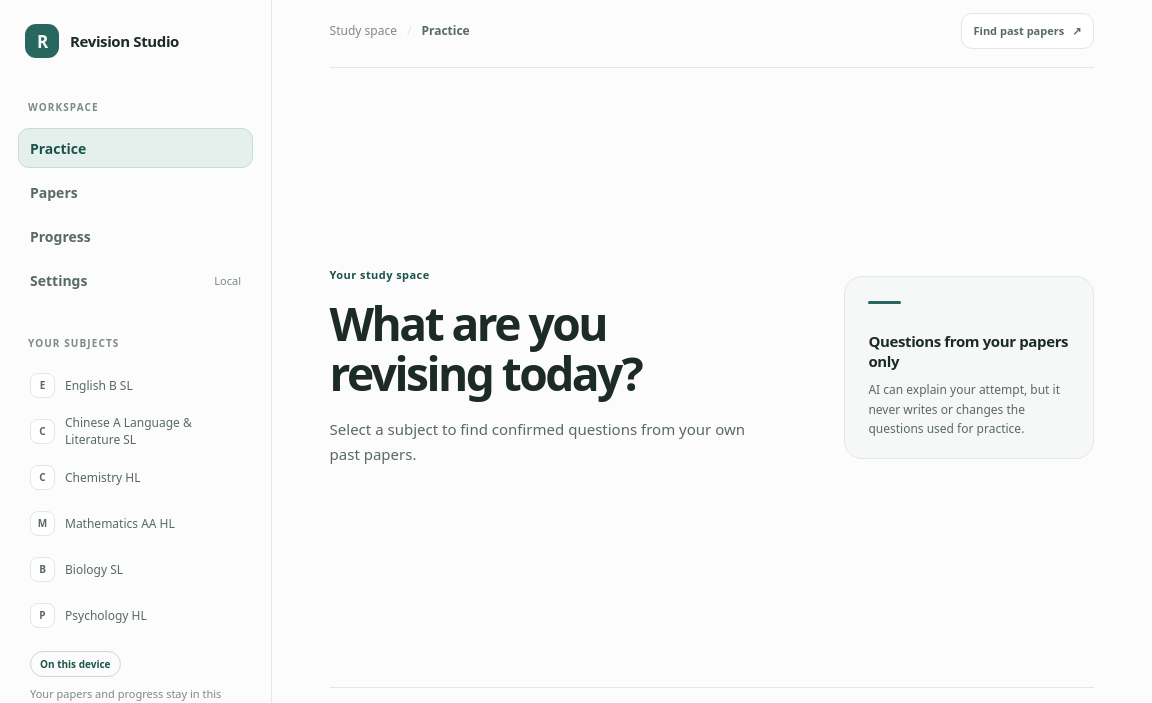
Test case: paper-only practice workflow › sends the confirmed source and markscheme to local feedback and saves only a self-rating
Click the button "B Biology SL" at x=136, y=569, box [18,548,253,590]
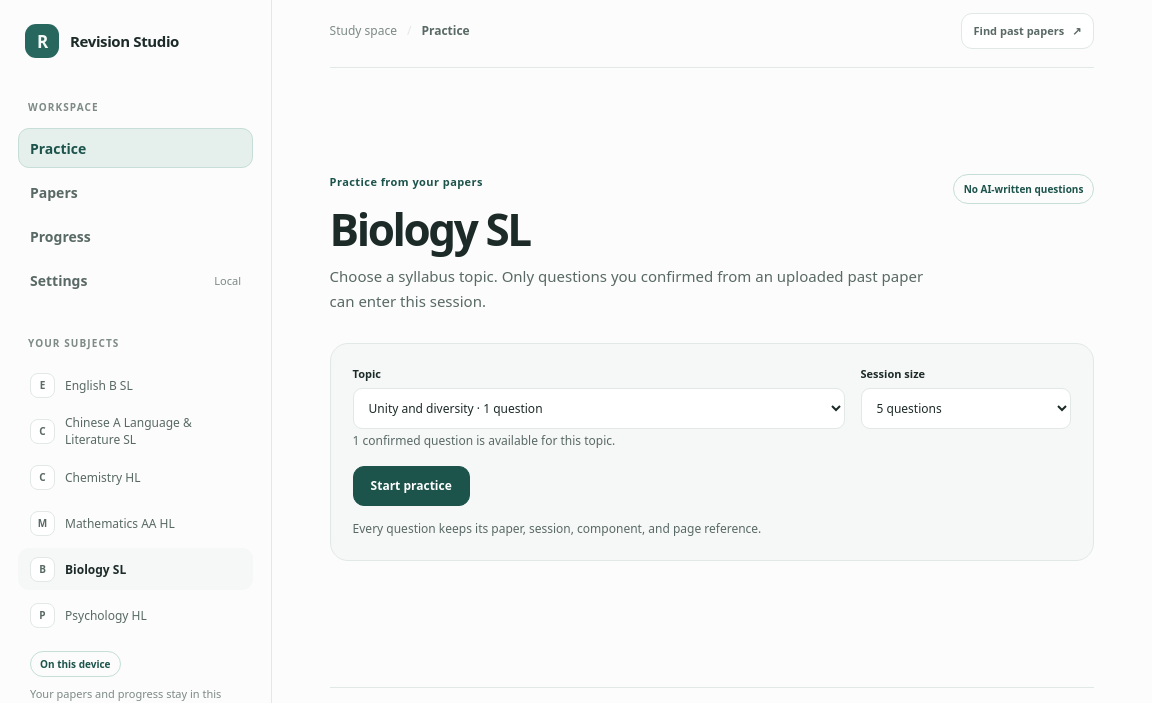
Check: the heading "Biology SL" is shown, box [330,199,530,259]
Click the button "Start practice" at x=411, y=486, box [353,466,470,506]
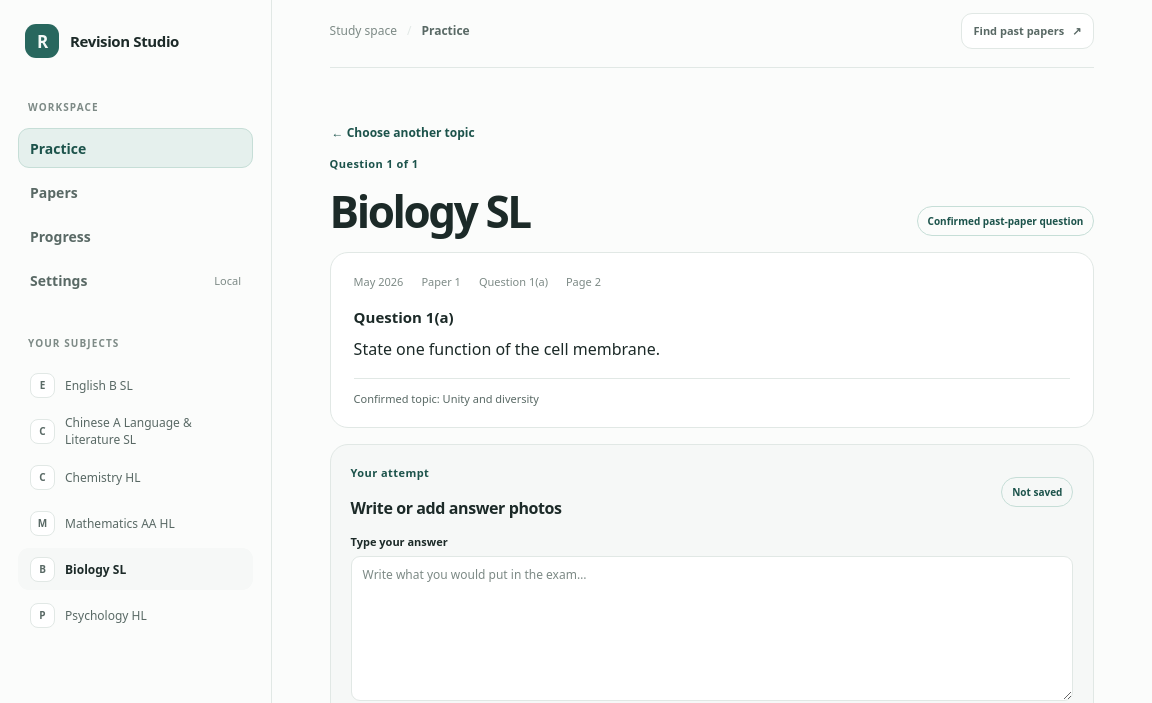
Check: the text "State one function of the cell membrane." is shown, box [354,338,660,360]
Check: the text "Confirmed topic: Unity and diversity" is shown, box [354,378,1070,406]
Type "It controls movement into and out of the cell." into the text box labelled "Type your answer" at x=712, y=628, box [351,556,1073,700]
(page scrolled)
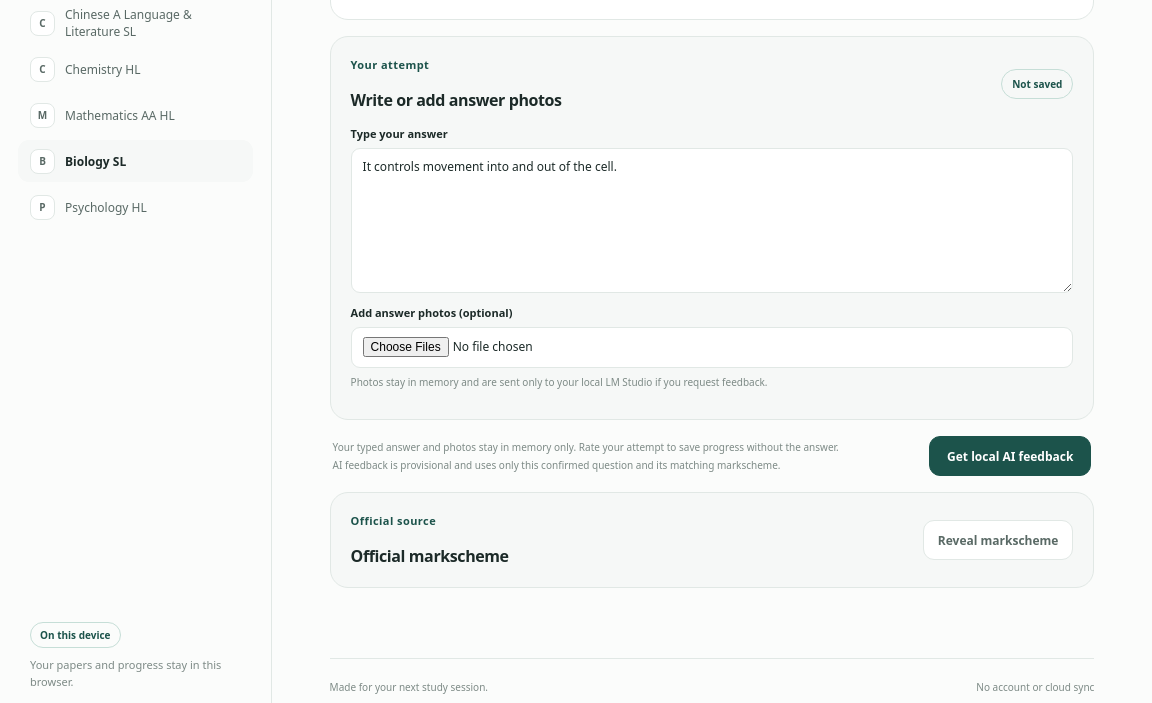
Check: the button "Get local AI feedback" is shown
Click the button "Get local AI feedback" at x=1010, y=456, box [929,436,1091,476]
(page scrolled)
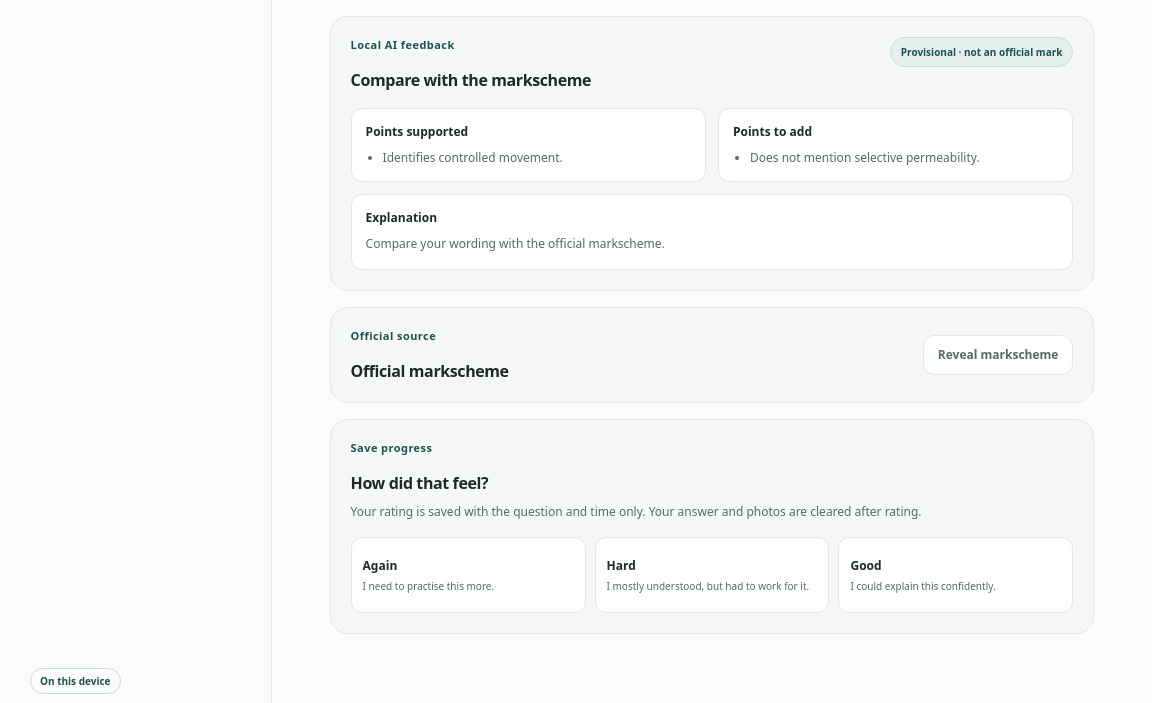
Check: the text "Compare your wording with the official markscheme." is shown, box [366,235,665,252]
Click the button "Reveal markscheme" at x=998, y=355, box [923,335,1073,375]
(page scrolled)
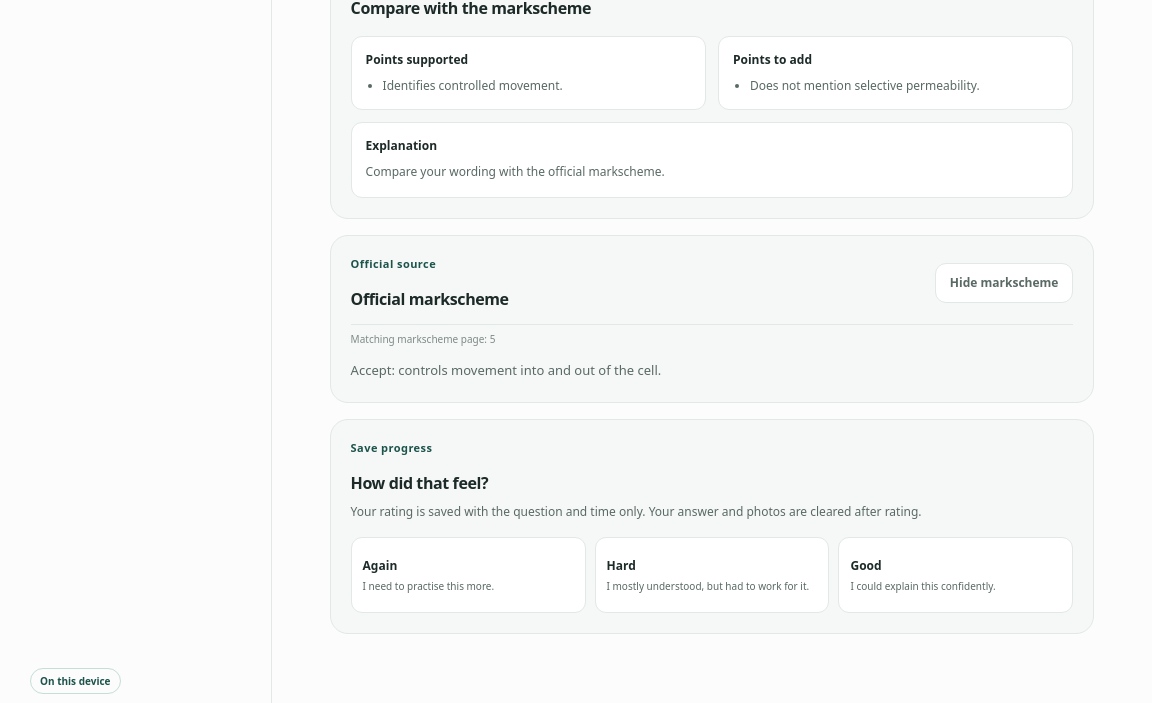
Check: the text "Accept: controls movement into and out of the cell." is shown, box [351,361,661,379]
Click the button "Good I could explain this confidently." at x=956, y=575, box [838,537,1073,613]
(page scrolled)
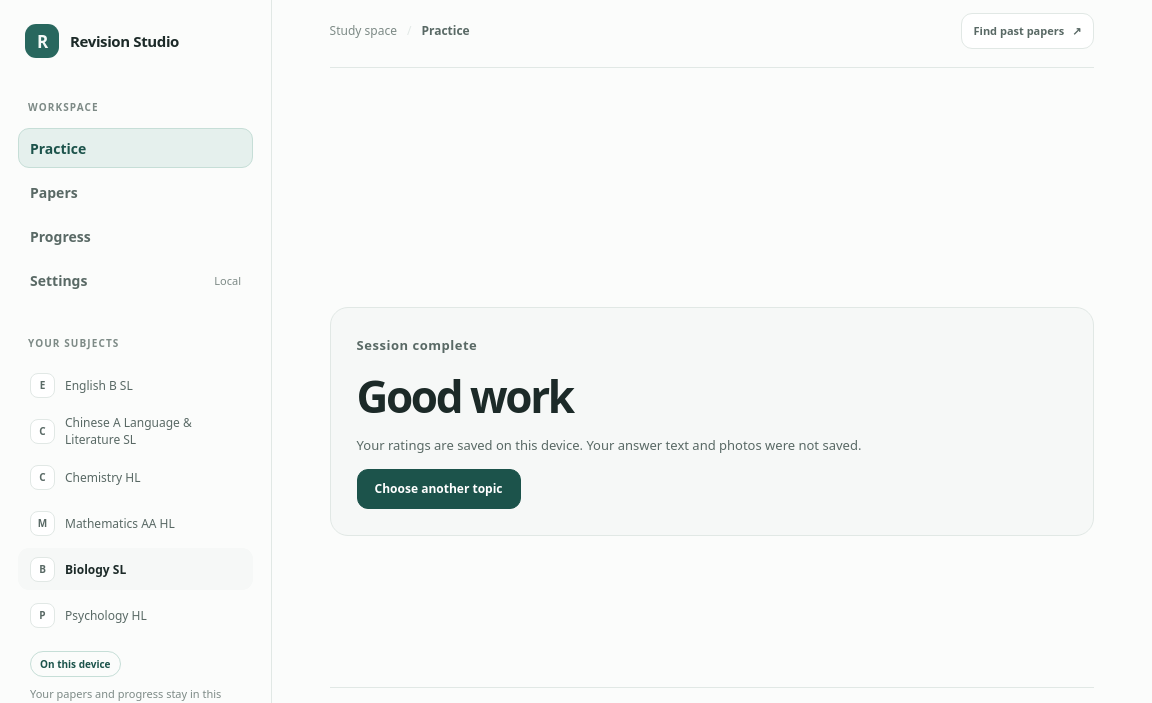
Check: the heading "Good work" is shown, box [357,366,573,426]
